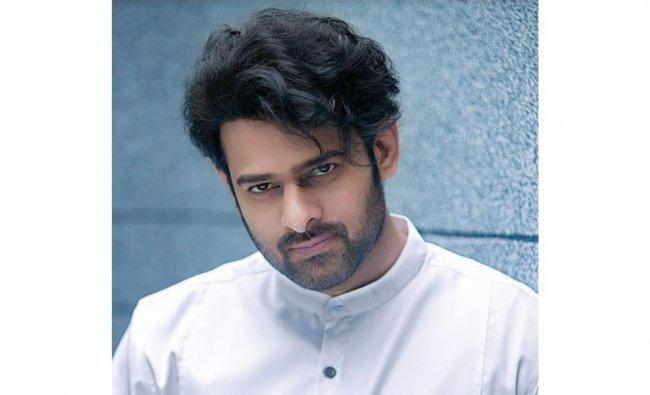Sober: (220, 103, 379, 280)
